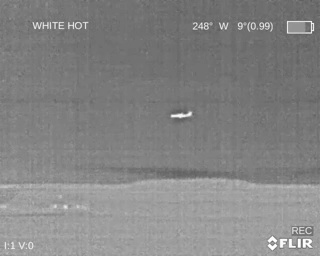AIRPLANE: (169, 110, 193, 119)
